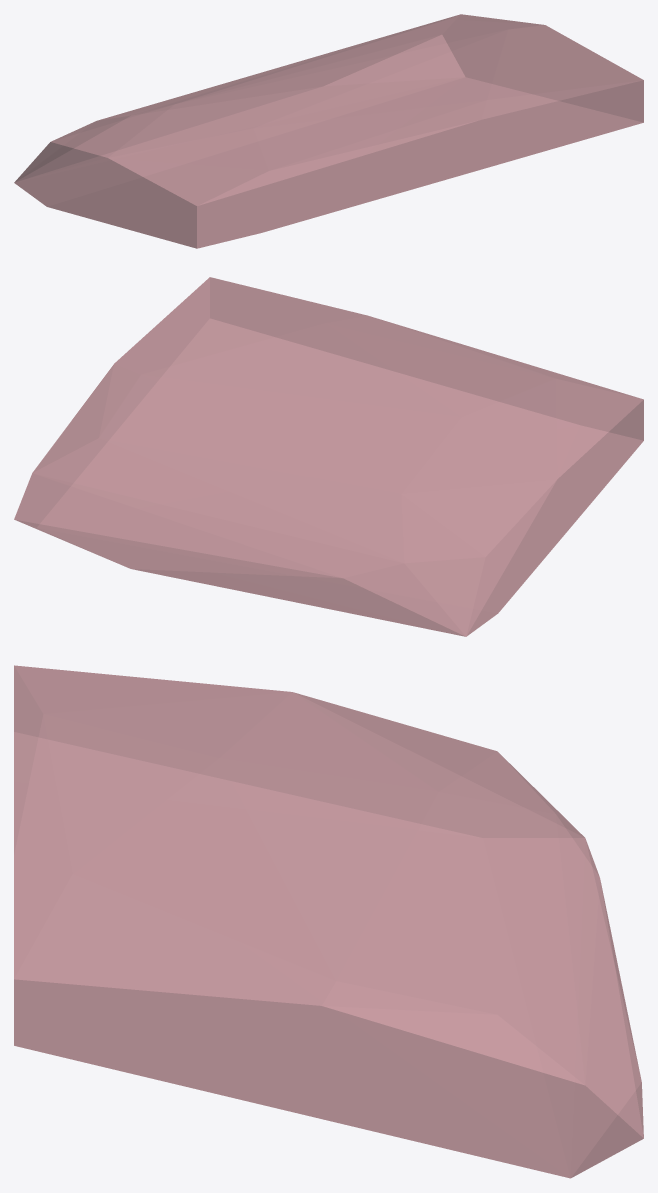
3 renders of one model, top to bottom at view 1: azimuth 30°, elevation 25°; view 2: azimuth 150°, elevation 25°; view 3: azimuth 270°, elevation 25°, orthographic. The views are drawn at different scales.
Parts seen in each view (by area): view 1: Shape_IndexedFaceSet.004_Shape_IndexedFaceSet.11148; view 2: Shape_IndexedFaceSet.004_Shape_IndexedFaceSet.11148; view 3: Shape_IndexedFaceSet.004_Shape_IndexedFaceSet.11148.
Boxes of the visible parts, x1,y1,x2,y2 form: Shape_IndexedFaceSet.004_Shape_IndexedFaceSet.11148: (14,14,643,248); Shape_IndexedFaceSet.004_Shape_IndexedFaceSet.11148: (14,277,643,636); Shape_IndexedFaceSet.004_Shape_IndexedFaceSet.11148: (14,665,643,1178).
Bounding box in the file's own units: 0.1805 × 0.0492 × 0.1412.
